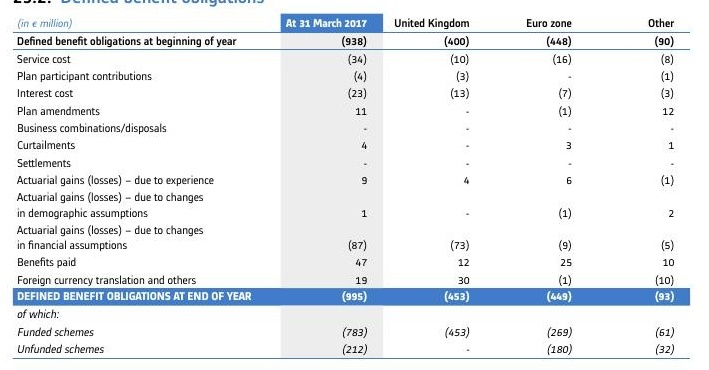table: (0, 0, 709, 370)
